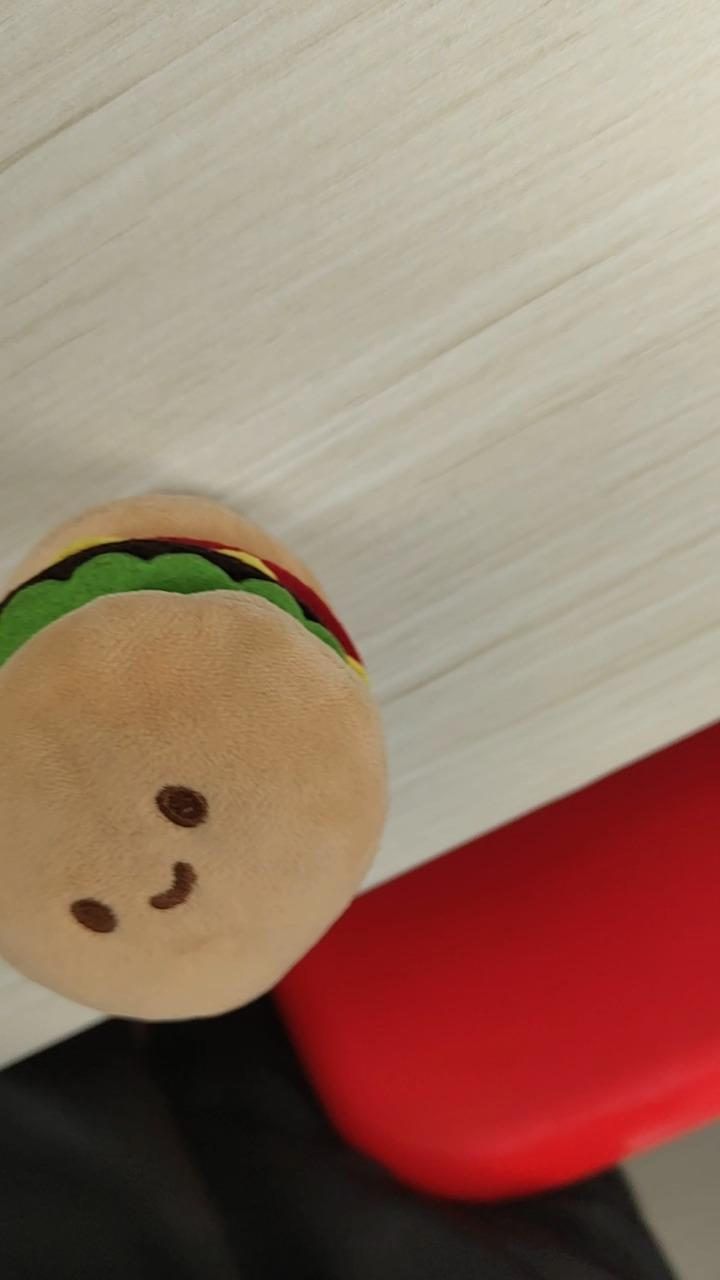hamburger: (0, 490, 390, 1027)
